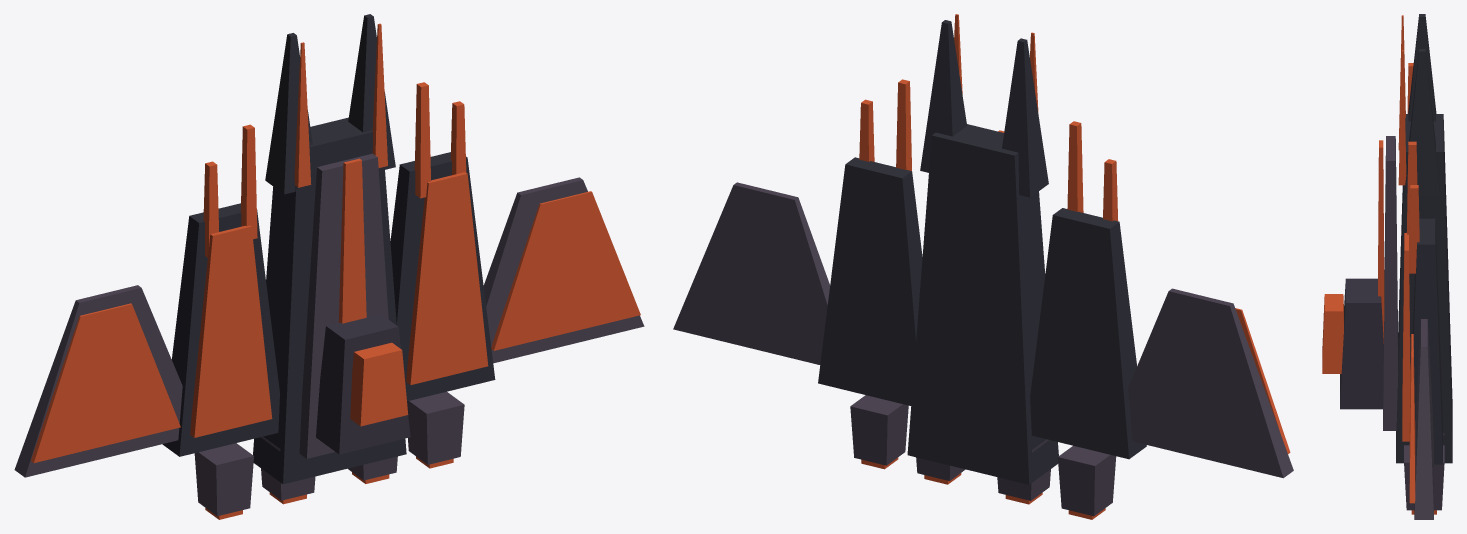
The model's file is ship_dark_perl.glb.
3 views of the same model, side by side, from view 1: azimuth 30°, elevation 25°; view 2: azimuth 150°, elevation 25°; view 3: azimuth 270°, elevation 25° (orthographic). The views are drawn at different scales.
Parts seen in each view (by area): view 1: BattleshipHull; view 2: BattleshipHull; view 3: BattleshipHull.
Boxes of the visible parts, <box> form: BattleshipHull: <box>14,14,644,519</box>; BattleshipHull: <box>673,14,1293,519</box>; BattleshipHull: <box>1322,14,1452,519</box>.
Size of the model in its own units: 6.77 by 4.82 by 1.33.
